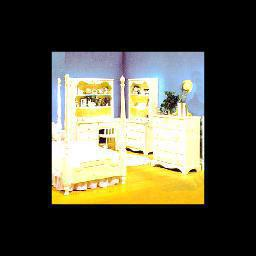Armario: (73, 78, 121, 147), (154, 117, 201, 175), (126, 80, 152, 152)
